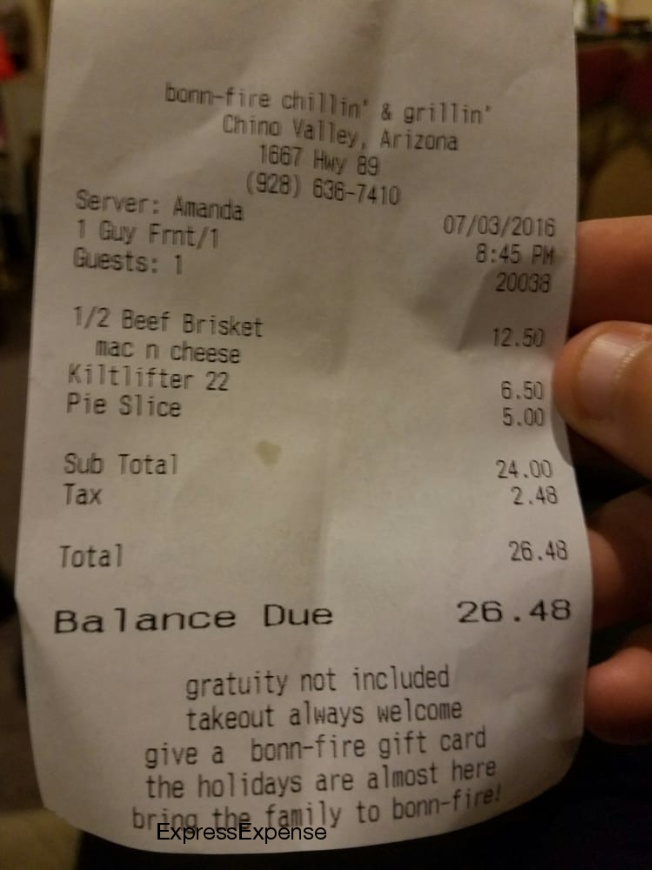Additional details: (120, 652, 516, 840)
Purchase summary: (51, 185, 571, 659)
Receipt: (21, 1, 584, 846)
Shop details: (121, 48, 516, 206)
